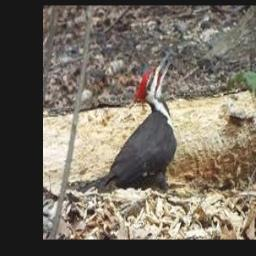Woodpecker: (77, 53, 177, 193)
